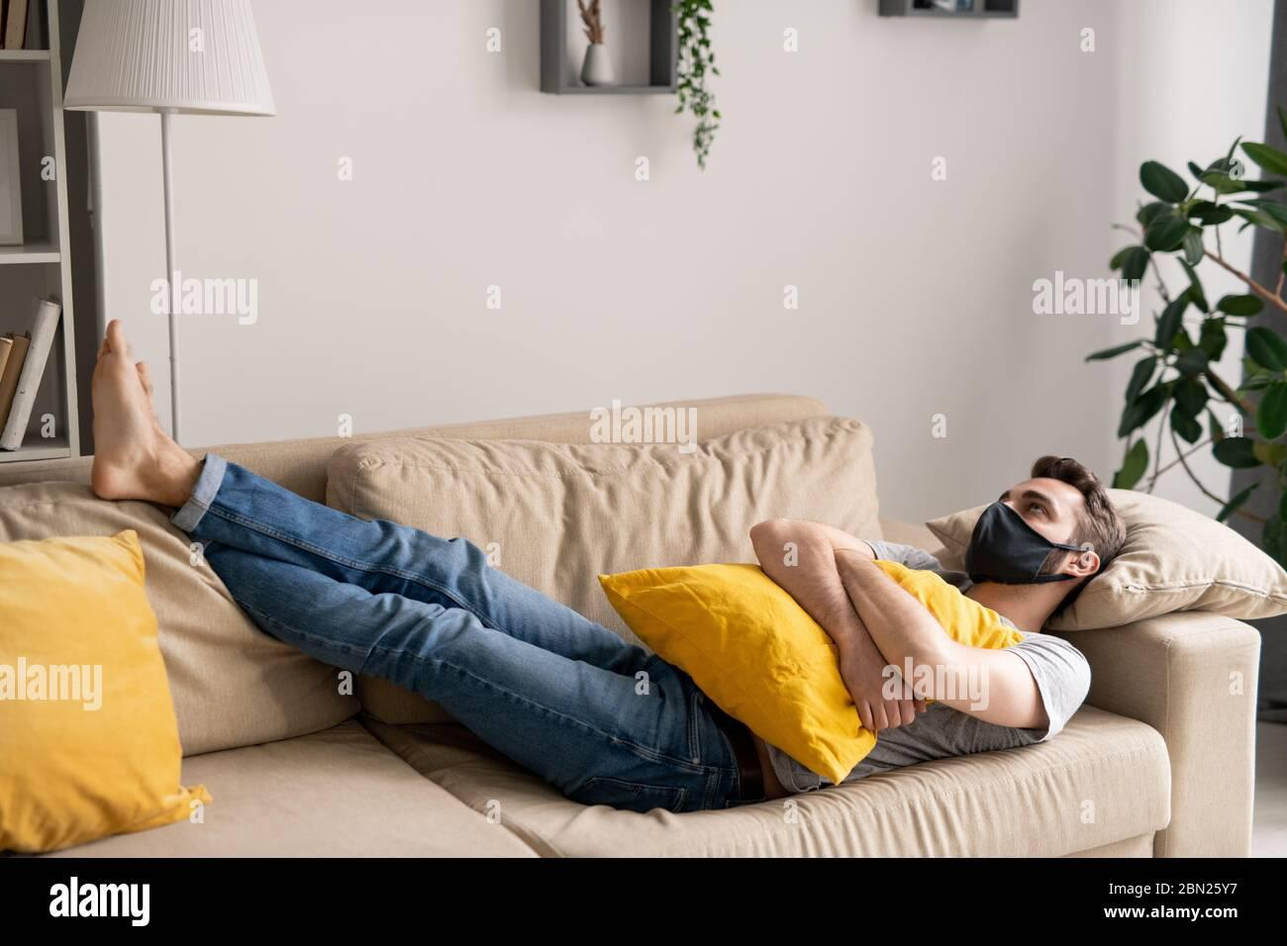OK: (972, 486, 1088, 588)
